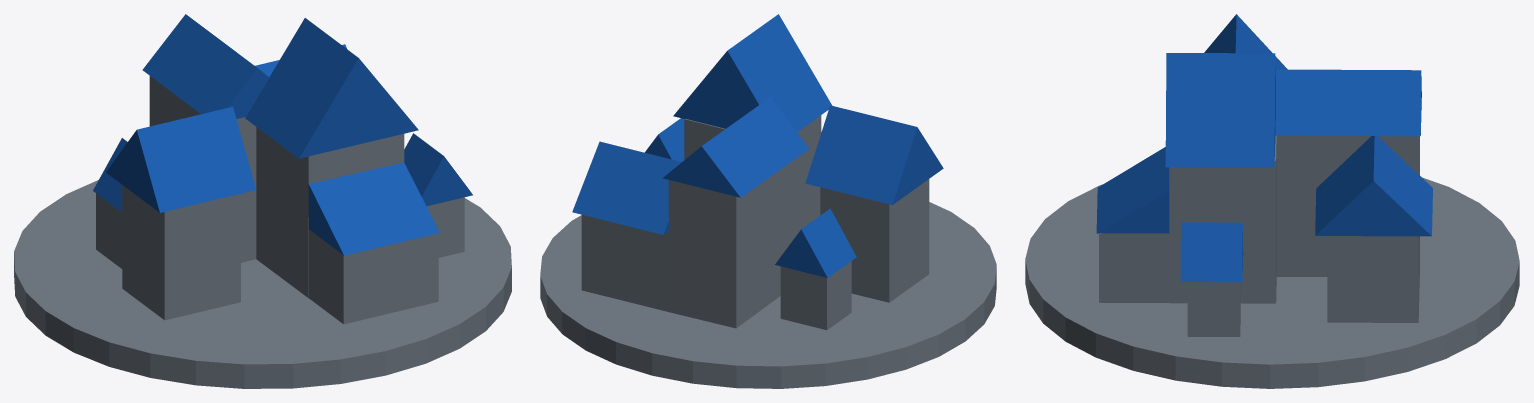
File: blueVillage.fbx
The picture shows the model from 3 angles, left to right: view 1: azimuth 30°, elevation 25°; view 2: azimuth 150°, elevation 25°; view 3: azimuth 270°, elevation 25°; orthographic projection. The views are drawn at different scales.
Parts seen in each view (by area): view 1: Cylinder.391; view 2: Cylinder.391; view 3: Cylinder.391.
Boxes of the visible parts, x1=… form: Cylinder.391: x1=14, y1=14, x2=511, y2=388; Cylinder.391: x1=540, y1=14, x2=996, y2=388; Cylinder.391: x1=1025, y1=14, x2=1519, y2=388.
Size of the model in its own units: 45.34 by 25.5 by 45.34.
